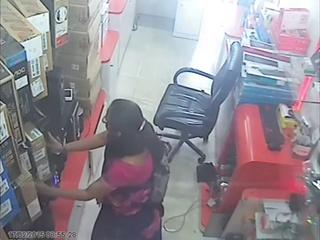Normal: (32, 99, 170, 240)
